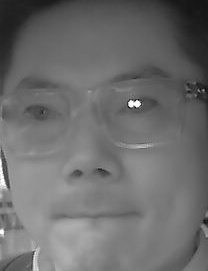glass: (95, 79, 182, 147), (3, 90, 69, 152)
mouth: (54, 195, 142, 242)
